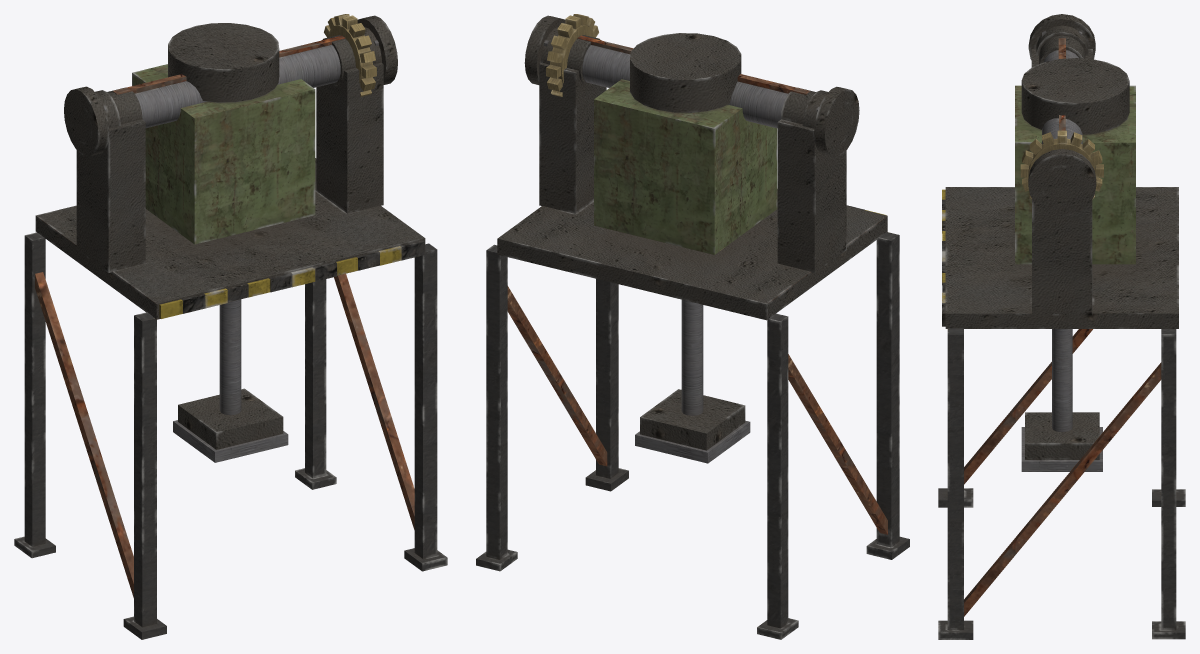
File: feInlinePress_HD.fbx
3 views of the same model, side by side, from view 1: azimuth 30°, elevation 25°; view 2: azimuth 150°, elevation 25°; view 3: azimuth 270°, elevation 25° (orthographic). The views are drawn at different scales.
Visible parts, largest first — view 1: feInlinePress_Base, FeReach_Legs, FeSpin_DriveShaft, FePiston_InlineRam; view 2: feInlinePress_Base, FeReach_Legs, FeSpin_DriveShaft, FePiston_InlineRam; view 3: feInlinePress_Base, FeReach_Legs, FeSpin_DriveShaft, FePiston_InlineRam.
Boxes of the visible parts, bbox=[...] form: feInlinePress_Base: bbox=[35, 23, 425, 319]; FeReach_Legs: bbox=[14, 232, 447, 639]; FeSpin_DriveShaft: bbox=[64, 14, 397, 156]; FePiston_InlineRam: bbox=[173, 299, 288, 462]; feInlinePress_Base: bbox=[497, 33, 887, 320]; FeReach_Legs: bbox=[476, 232, 909, 639]; FeSpin_DriveShaft: bbox=[524, 14, 859, 156]; FePiston_InlineRam: bbox=[635, 299, 750, 463]; feInlinePress_Base: bbox=[942, 35, 1178, 328]; FeReach_Legs: bbox=[938, 328, 1185, 639]; FeSpin_DriveShaft: bbox=[1020, 14, 1103, 216]; FePiston_InlineRam: bbox=[1021, 329, 1102, 471].
Size of the model in its own units: 1.02 by 1.63 by 0.743.
1 material, 1 textured.
